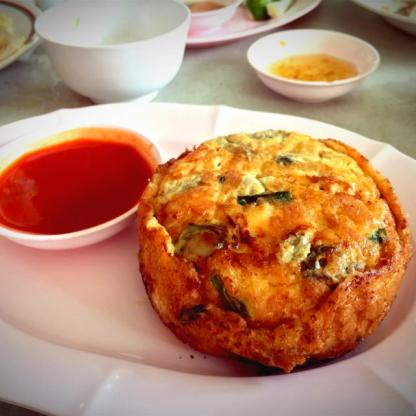Omelette: (142, 122, 412, 372)
